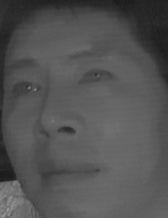eye: (76, 65, 116, 88), (9, 79, 43, 99)
mouth: (33, 155, 102, 189)
